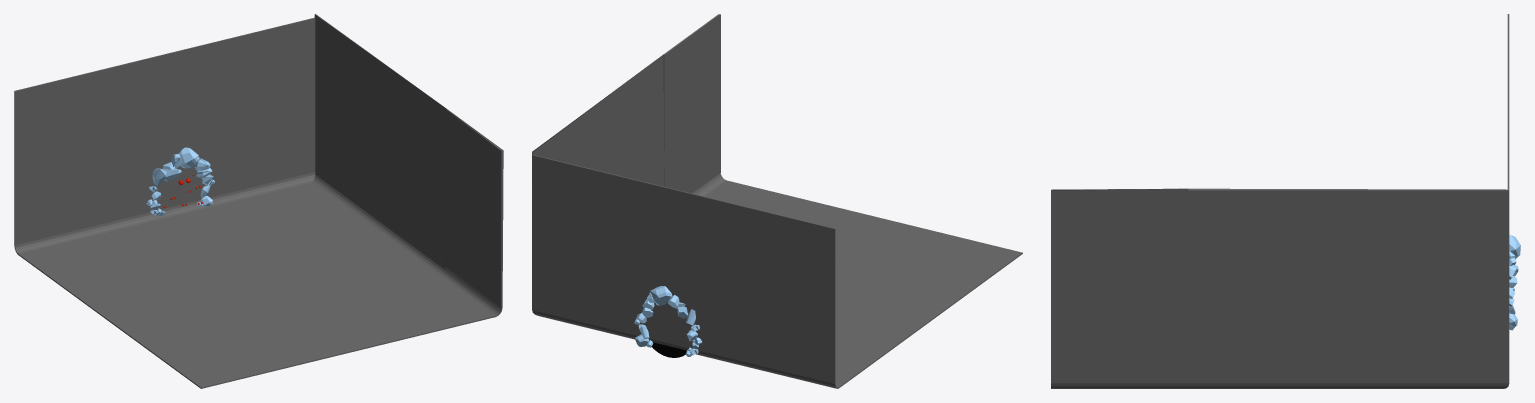
Rendered from CharacterSelect.fbx.
3 views of the same model, side by side, from view 1: azimuth 30°, elevation 25°; view 2: azimuth 150°, elevation 25°; view 3: azimuth 270°, elevation 25° (orthographic). The views are drawn at different scales.
Visible parts, largest first — view 1: Plane.002; view 2: Plane.002; view 3: Plane.002.
Part boxes in pixels (box(x1,y1,x2,y2)): Plane.002: box(14, 14, 503, 388); Plane.002: box(532, 14, 1022, 388); Plane.002: box(1051, 14, 1509, 388).
Size of the model in its own units: 6780 by 3704 by 7437.
